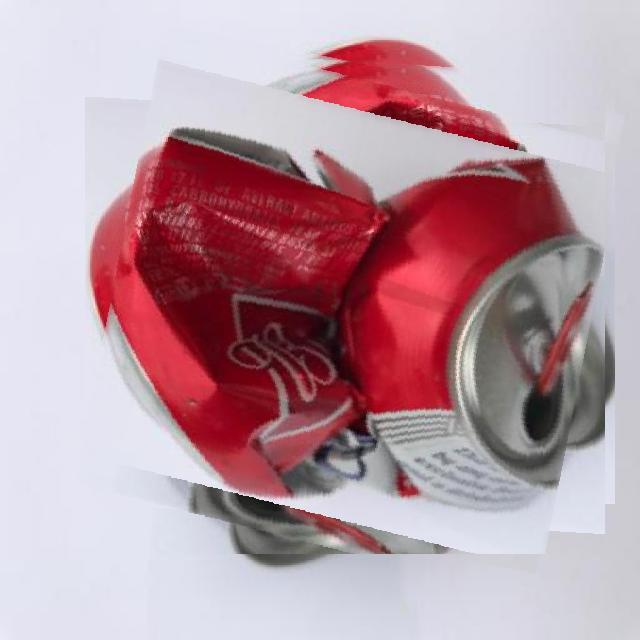recyclable: (95, 46, 605, 554)
